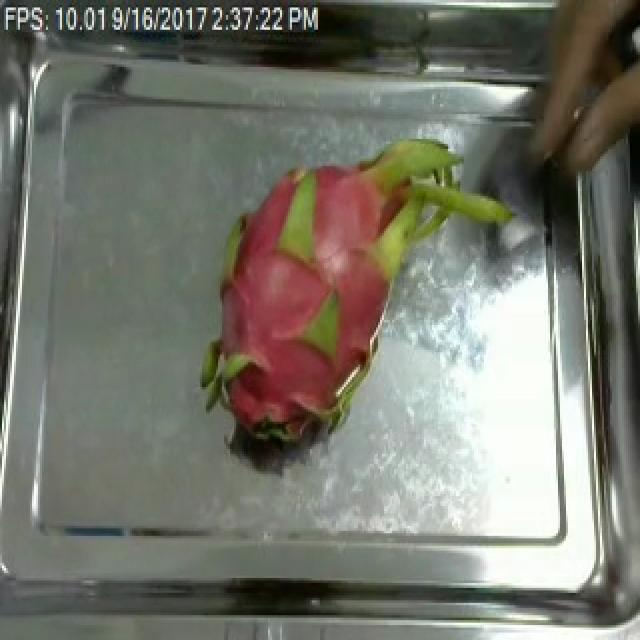fruit: (186, 102, 526, 471)
